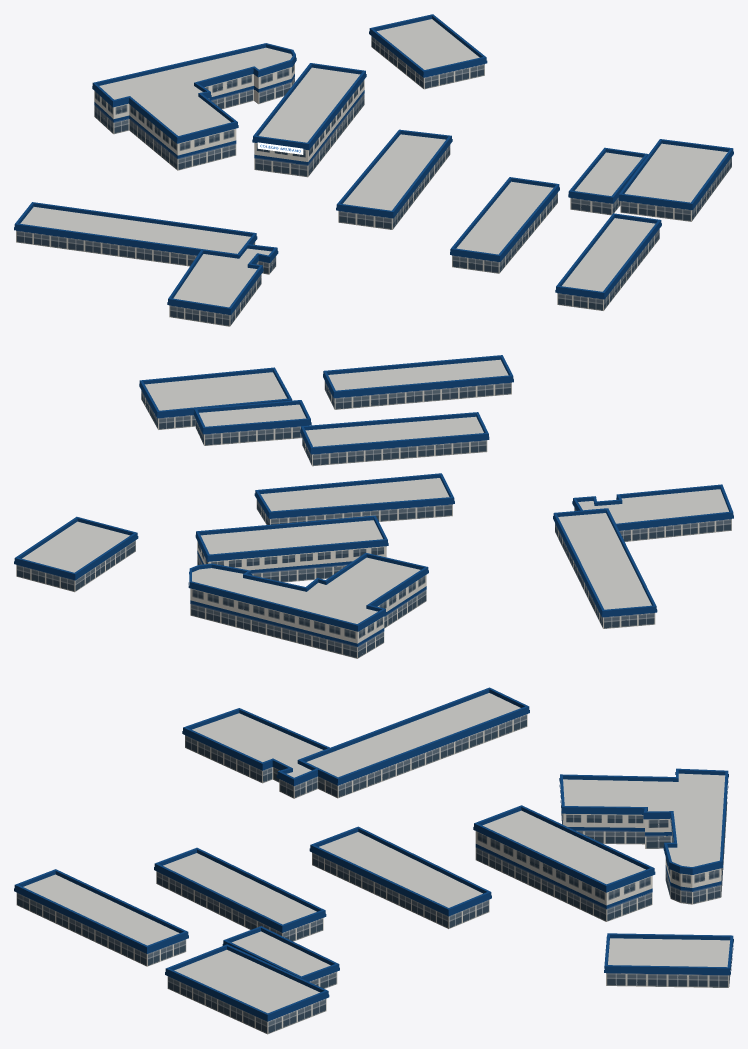
Rendered from colegioarubano.glb.
3 renders of one model, top to bottom at view 1: azimuth 30°, elevation 25°; view 2: azimuth 150°, elevation 25°; view 3: azimuth 270°, elevation 25°, orthographic. The views are drawn at different scales.
Visible parts, largest first — view 1: colegioarubano_lod0; view 2: colegioarubano_lod0; view 3: colegioarubano_lod0.
Boxes of the visible parts, x1,y1,x2,y2 form: colegioarubano_lod0: [14, 14, 733, 326]; colegioarubano_lod0: [14, 355, 733, 658]; colegioarubano_lod0: [14, 687, 733, 1034].
Size of what is drawn, in the model's own units: 153 by 8 by 142.
5 materials, 3 textured.
